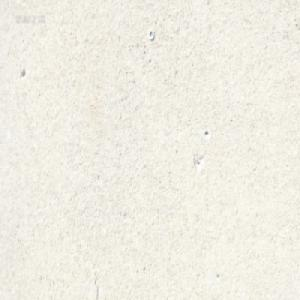Washer: (147, 30, 154, 41)
